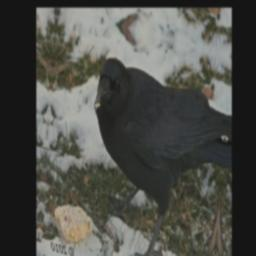Crow: (82, 52, 228, 256)
